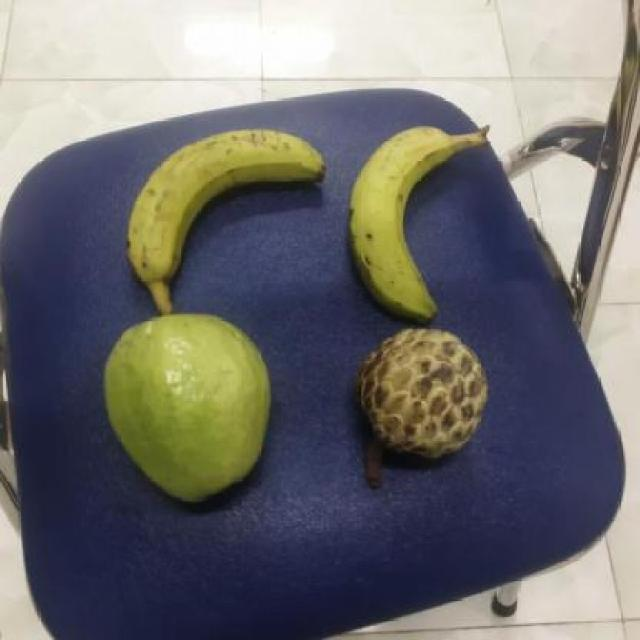banana: (123, 121, 328, 295), (342, 121, 467, 321)
guava: (99, 302, 276, 508)
sugar apple: (352, 321, 490, 461)
